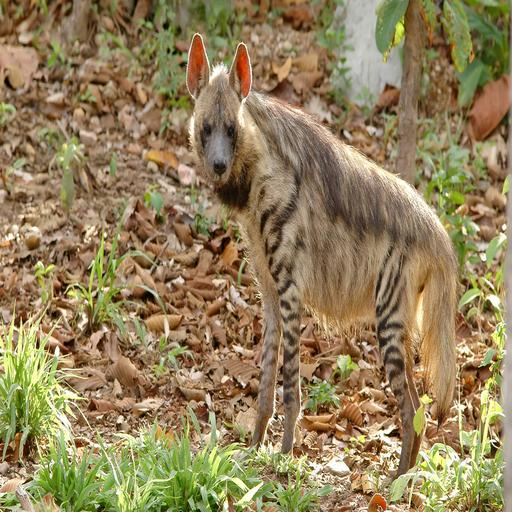Hyena: (175, 31, 462, 476)
